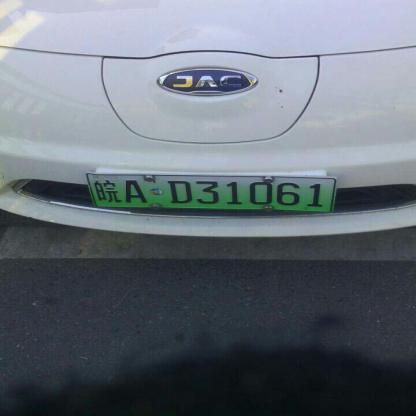lp: (88, 173, 333, 211)
